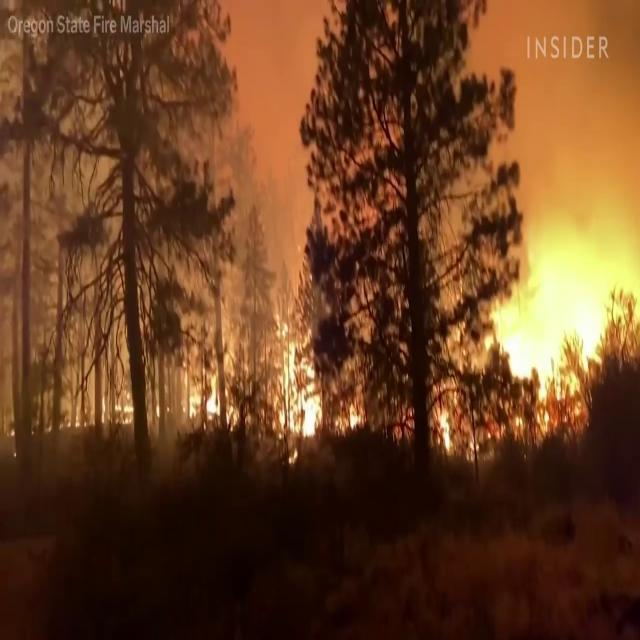Fire: (488, 205, 626, 431), (276, 313, 324, 446), (182, 346, 240, 430)
Smoke: (160, 0, 352, 286), (462, 1, 640, 252)
